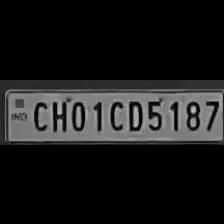0: (68, 96, 88, 132)
1: (164, 97, 182, 131), (88, 96, 104, 132)
5: (143, 96, 163, 130)
7: (202, 96, 220, 132)
8: (181, 97, 201, 131)
C: (29, 97, 47, 131), (106, 96, 124, 130)
D: (124, 96, 142, 130)
H: (48, 96, 68, 132)
